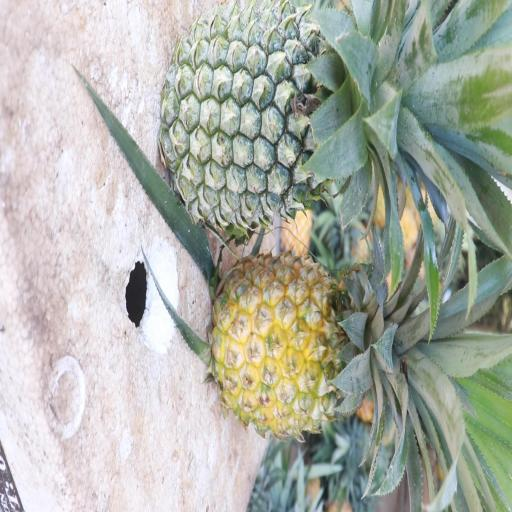Pineapple - v8 v1: (212, 245, 484, 508)
